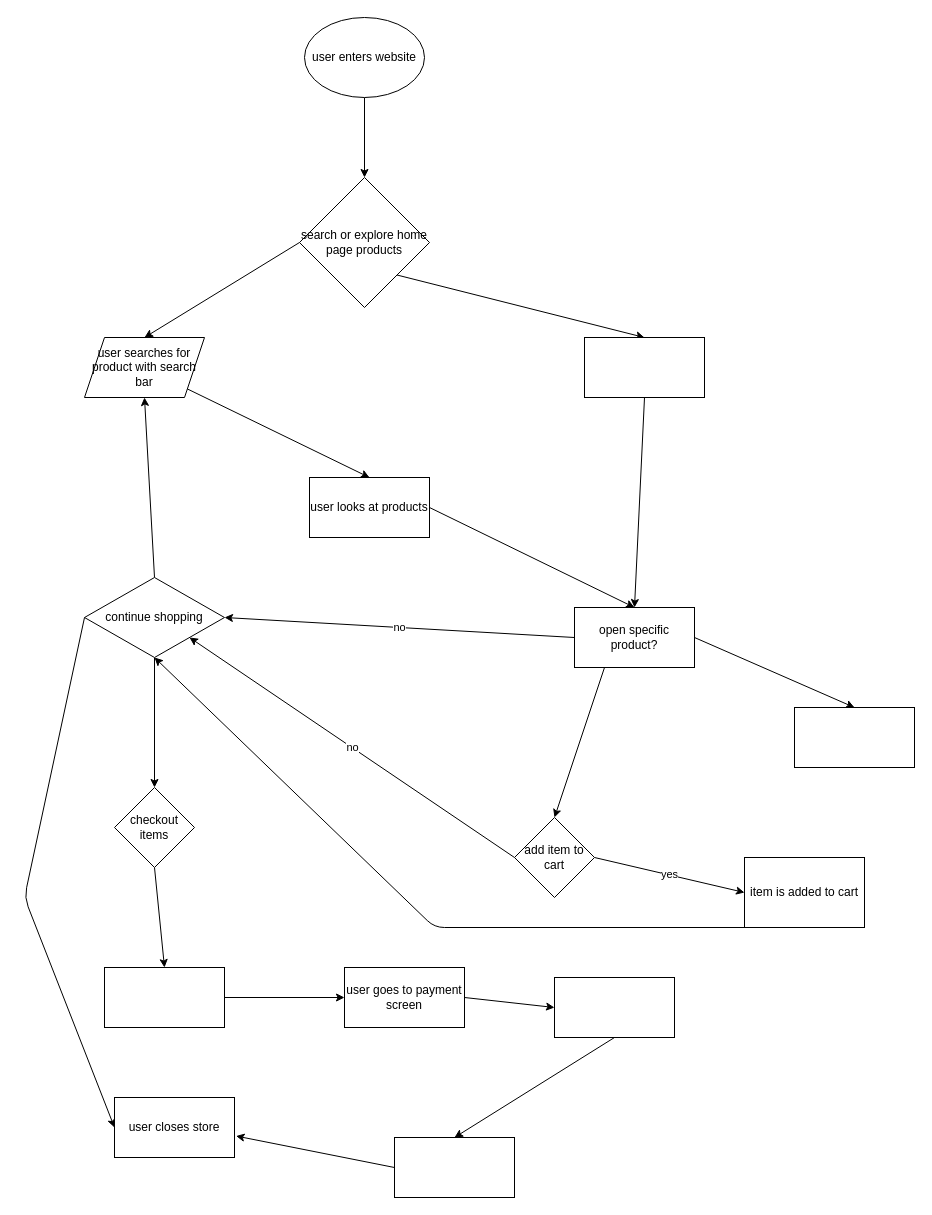
This 932x1215 diagram has some shape labels left out. The centre of each missing label's shape, as x and y in pixels:
"user fills out payment details" goes at (614,1007).
"user gets order confirmation" goes at (454,1167).
"user goes to specific product" goes at (854,737).
"user views cart" goes at (164,997).
"user views home page products" goes at (644,367).
